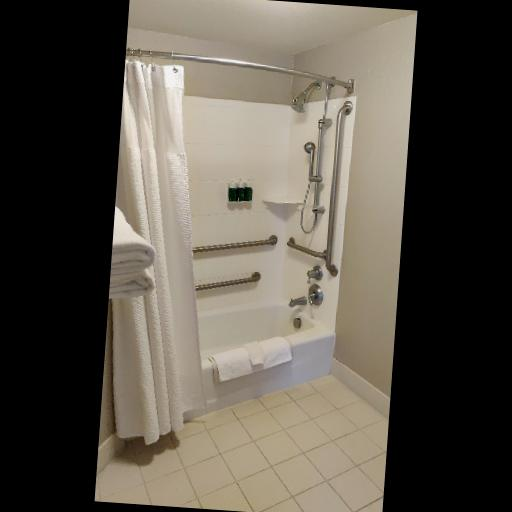clean_bathtub: (191, 272, 338, 418)
clean_floor: (93, 375, 383, 512)
clean_toilet: (96, 0, 417, 512)
folded_towel: (111, 205, 155, 299)
